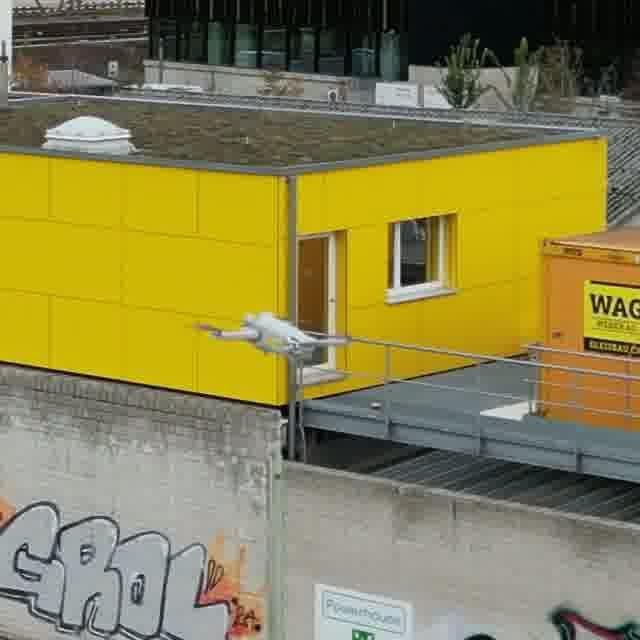Drohne: (195, 312, 347, 358)
